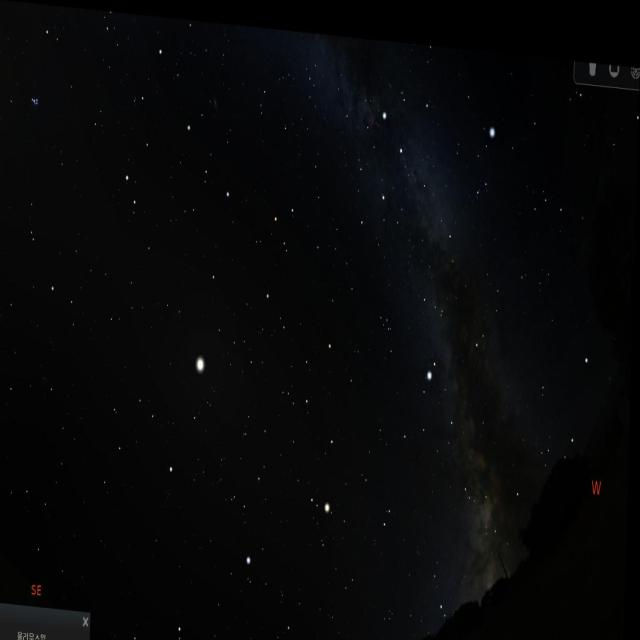aquila: (400, 340, 490, 504)
cygnus: (375, 70, 459, 238)
lyra: (474, 109, 497, 206)
pleiades: (24, 84, 49, 126)
